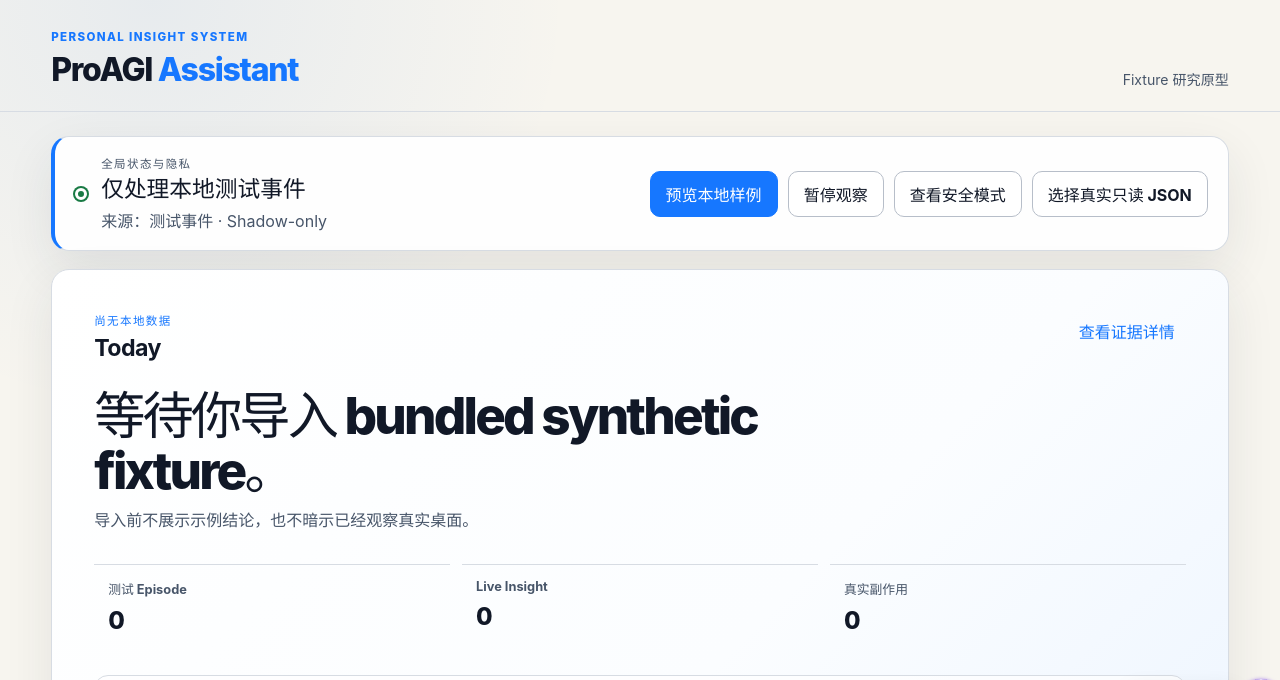
AppShell accessibility contracts › traps detail focus, closes on Escape, and returns focus to its invoker
The width and height of the screenshot is (1280, 680).
Click the button "查看证据详情": (1127, 331) 1068,312 -> 1186,350
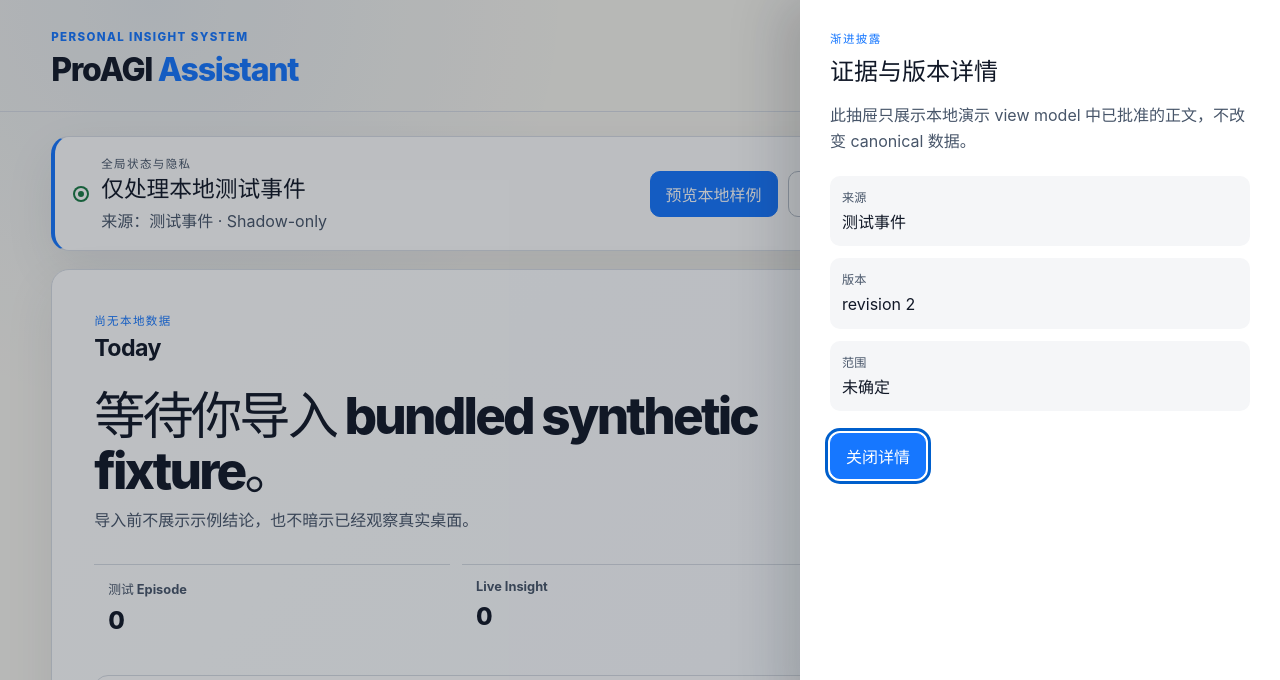
Press Tab
Press Escape
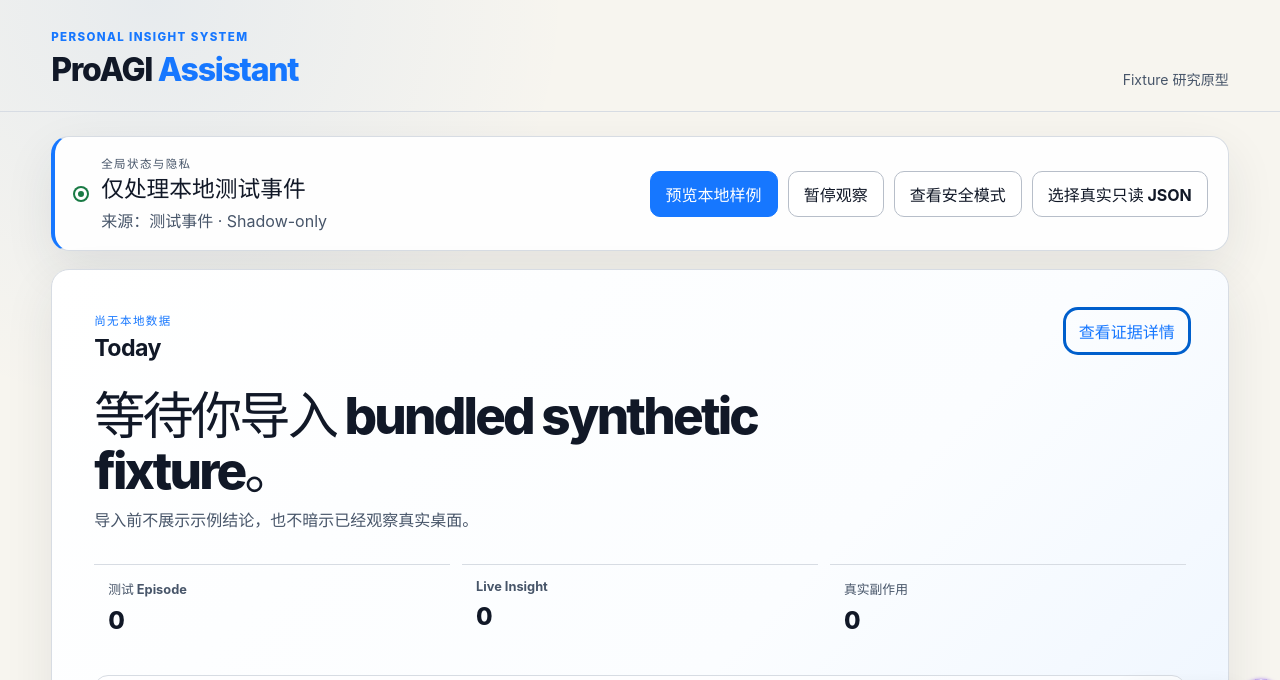
Now the heading "证据与版本详情" is gone
